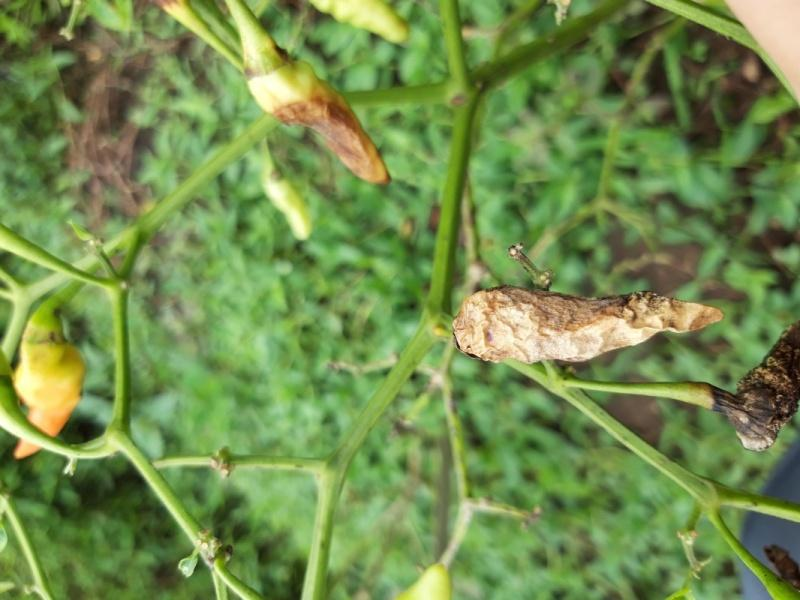antraknosa: (463, 285, 723, 363), (251, 62, 390, 186), (733, 322, 800, 452)
cabai_normal: (8, 327, 83, 457)
